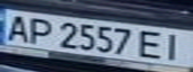2: (54, 19, 81, 51)
5: (75, 20, 100, 53), (93, 24, 115, 55)
7: (112, 25, 136, 56)
A: (3, 11, 33, 43)
E: (136, 28, 169, 61)
I: (160, 30, 193, 61)
P: (24, 15, 57, 45)
